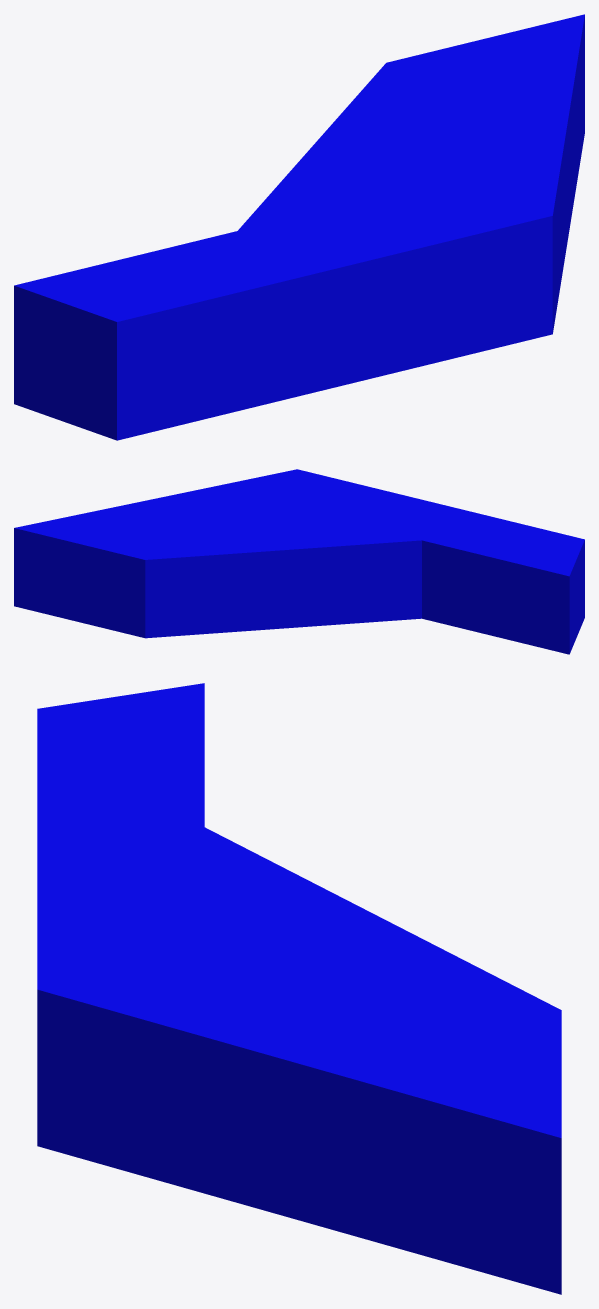
The model's file is COLLISION_DRIVETRAIN.dae.
The picture shows the model from 3 angles, top to bottom: view 1: azimuth 30°, elevation 25°; view 2: azimuth 150°, elevation 25°; view 3: azimuth 270°, elevation 25°; orthographic projection. The views are drawn at different scales.
Visible parts, largest first — view 1: COLLISION_DRIVETRAIN; view 2: COLLISION_DRIVETRAIN; view 3: COLLISION_DRIVETRAIN.
Boxes of the visible parts, box(x1,y1,x2,y2) form: COLLISION_DRIVETRAIN: box(14, 14, 584, 440); COLLISION_DRIVETRAIN: box(14, 469, 584, 654); COLLISION_DRIVETRAIN: box(37, 683, 561, 1294).
Bounding box in the file's own units: 1.5 × 0.24 × 0.7279.
